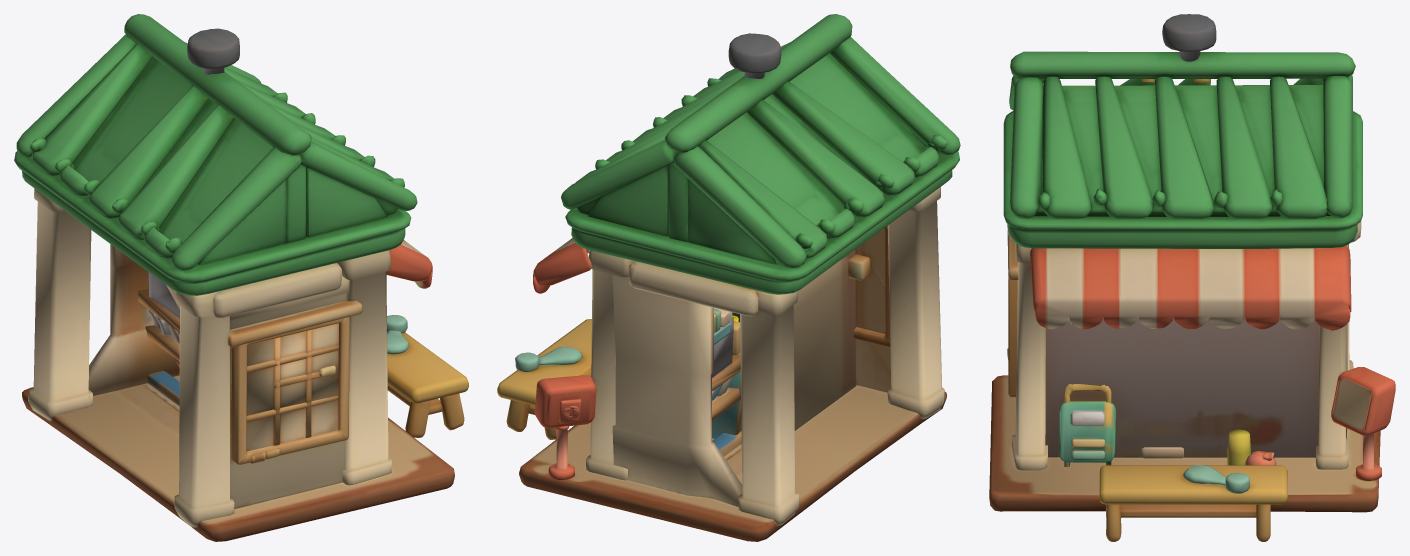
Rendered from bookshop.glb.
3 renders of one model, left to right at view 1: azimuth 30°, elevation 25°; view 2: azimuth 150°, elevation 25°; view 3: azimuth 270°, elevation 25°, orthographic.
Visible parts, largest first — view 1: tripo_node_a8040985-a0b2-4497-876b-17e8cbd668db; view 2: tripo_node_a8040985-a0b2-4497-876b-17e8cbd668db; view 3: tripo_node_a8040985-a0b2-4497-876b-17e8cbd668db.
Boxes of the visible parts, x1=… form: tripo_node_a8040985-a0b2-4497-876b-17e8cbd668db: x1=14, y1=14, x2=468, y2=541; tripo_node_a8040985-a0b2-4497-876b-17e8cbd668db: x1=497, y1=14, x2=960, y2=541; tripo_node_a8040985-a0b2-4497-876b-17e8cbd668db: x1=989, y1=14, x2=1395, y2=541.
Size of the model in its own units: 0.8613 by 0.998 by 0.877.
1 material, 1 textured.
